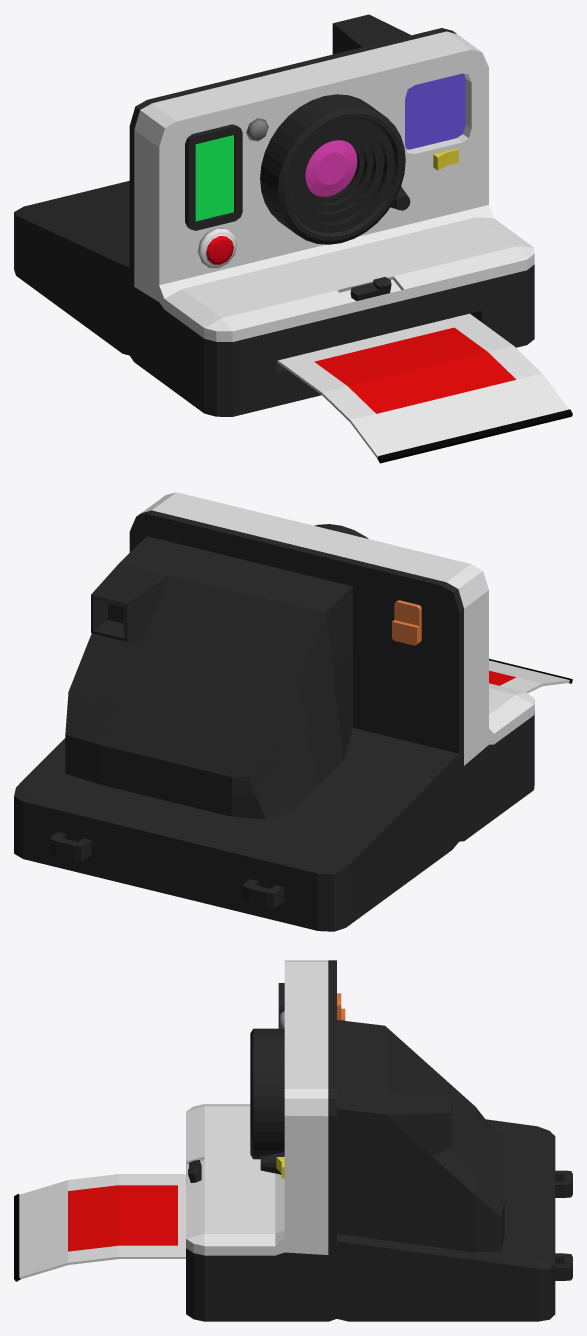
File: LowPolyHandCamera.fbx
3 views of the same model, one above another, from view 1: azimuth 30°, elevation 25°; view 2: azimuth 150°, elevation 25°; view 3: azimuth 270°, elevation 25° (orthographic). The views are drawn at different scales.
Parts seen in each view (by area): view 1: Cube, Cylinder, Cube.003, Cube.004, Cube.007, Cylinder.001, Cube.006; view 2: Cube, Cube.005, Cube.003, Cube.001; view 3: Cube, Cube.003, Cube.004, Cylinder, Cube.005.
Boxes of the visible parts, left/top/right/bottom form: Cube: left=14, top=14, right=534, bottom=416; Cylinder: left=260, top=94, right=405, bottom=244; Cube.003: left=277, top=313, right=572, bottom=463; Cube.004: left=314, top=327, right=516, bottom=413; Cube.007: left=185, top=124, right=242, bottom=230; Cylinder.001: left=197, top=228, right=236, bottom=268; Cube.006: left=339, top=277, right=401, bottom=303; Cube: left=14, top=492, right=534, bottom=931; Cube.005: left=50, top=832, right=283, bottom=907; Cube.003: left=489, top=658, right=572, bottom=692; Cube.001: left=392, top=600, right=421, bottom=645; Cube: left=186, top=960, right=555, bottom=1321; Cube.003: left=14, top=1174, right=185, bottom=1281; Cube.004: left=68, top=1185, right=177, bottom=1251; Cylinder: left=250, top=1028, right=284, bottom=1159; Cube.005: left=555, top=1170, right=572, bottom=1280.
Size of the model in its own units: 344 by 254 by 571.
